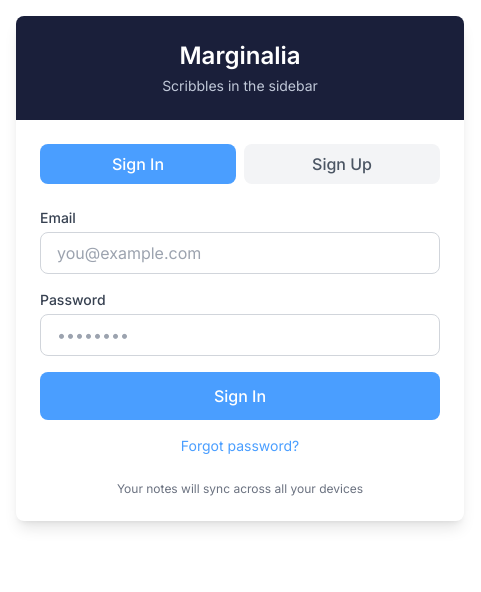
it: Options › Unauthenticated state › should switch to sign up mode
The width and height of the screenshot is (481, 592).
(page scrolled)
Click the tab with test id "signup-mode-button". click: (342, 164)
box: [244,144,440,184]
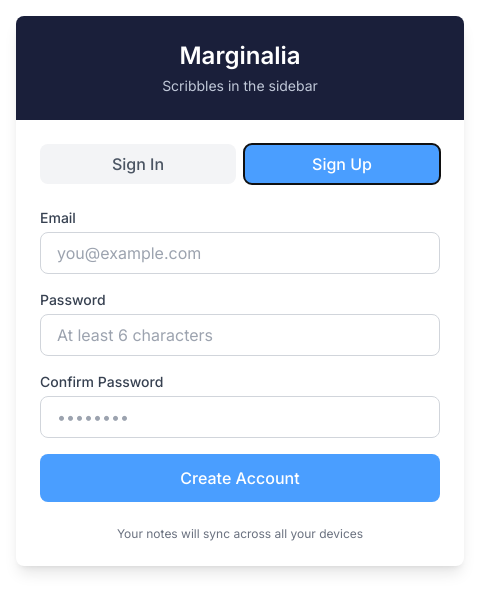
Expected: the form with test id "signup-form" is shown, [40,208,440,502]
Expected: the password field labelled "Confirm Password" is shown, [40,396,440,438]
